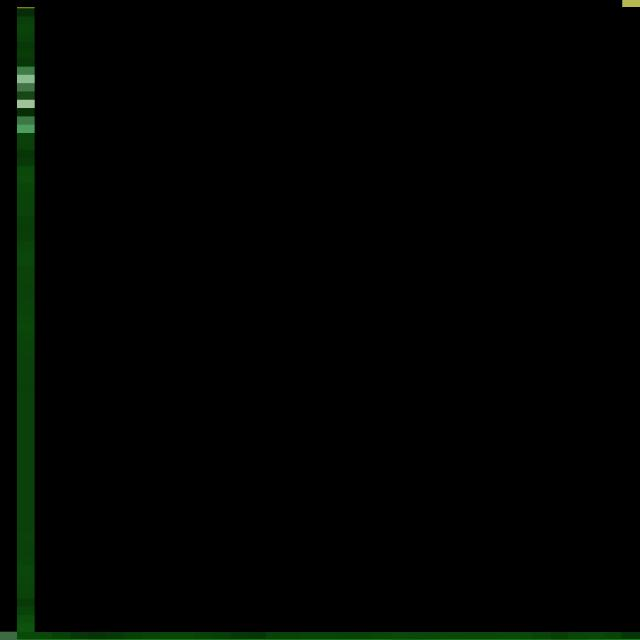nofire: (17, 7, 640, 639)
